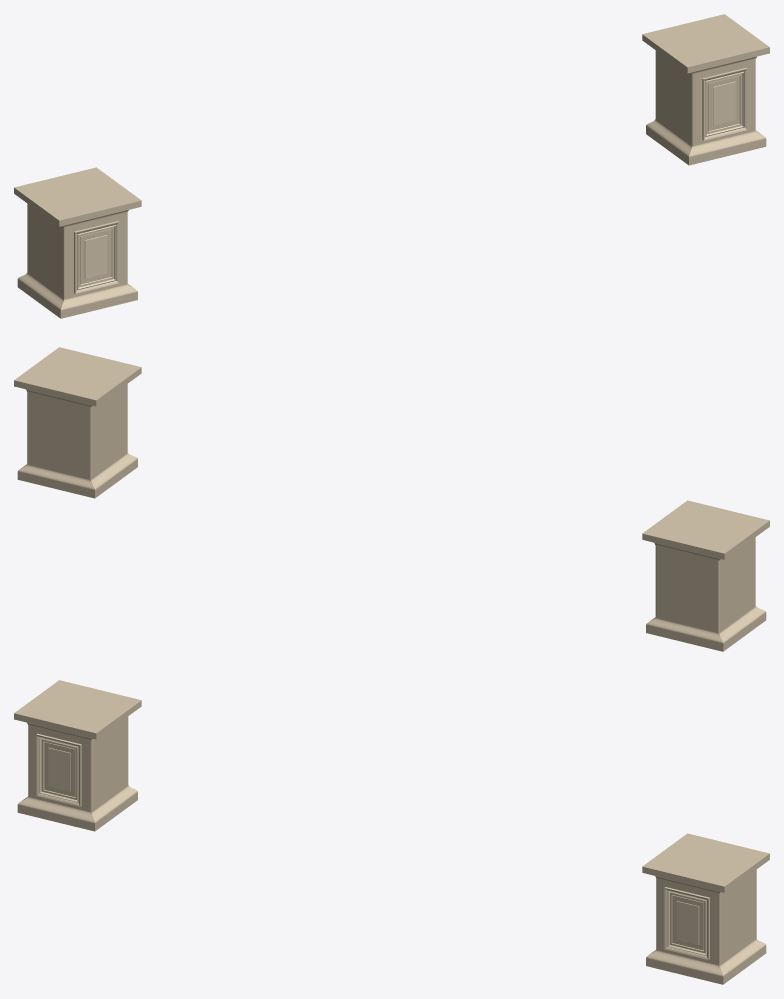
Rendered from altar-pedestals.glb.
The picture shows the model from 3 angles, top to bottom: view 1: azimuth 30°, elevation 25°; view 2: azimuth 150°, elevation 25°; view 3: azimuth 330°, elevation 25°; orthographic projection.
Visible parts, largest first — view 1: PEDESTAL_R_body, PEDESTAL_L_body, PEDESTAL_L_ledge_3, PEDESTAL_R_ledge_3, PEDESTAL_R_ledge_1, PEDESTAL_L_ledge_1, PEDESTAL_L_ledge_0, PEDESTAL_R_ledge_0, PEDESTAL_LEFT_FRONT_RAISED_CENTER_v17_1, PEDESTAL_RIGHT_FRONT_RAISED_CENTER_v17_1, PEDESTAL_R_front_1, PEDESTAL_L_front_1; view 2: PEDESTAL_R_body, PEDESTAL_L_body, PEDESTAL_L_ledge_3, PEDESTAL_R_ledge_3, PEDESTAL_R_ledge_1, PEDESTAL_L_ledge_1, PEDESTAL_L_ledge_0, PEDESTAL_R_ledge_0; view 3: PEDESTAL_L_body, PEDESTAL_R_body, PEDESTAL_R_ledge_3, PEDESTAL_L_ledge_3, PEDESTAL_L_ledge_1, PEDESTAL_R_ledge_1, PEDESTAL_L_ledge_0, PEDESTAL_R_ledge_0, PEDESTAL_RIGHT_FRONT_RAISED_CENTER_v17_1, PEDESTAL_LEFT_FRONT_RAISED_CENTER_v17_1, PEDESTAL_L_front_1, PEDESTAL_R_front_1.
Boxes of the visible parts, x1,y1,x2,y2 form: PEDESTAL_R_body: [655, 50, 755, 146]; PEDESTAL_L_body: [27, 203, 127, 299]; PEDESTAL_L_ledge_3: [14, 167, 141, 226]; PEDESTAL_R_ledge_3: [642, 14, 769, 73]; PEDESTAL_R_ledge_1: [646, 119, 765, 157]; PEDESTAL_L_ledge_1: [18, 272, 137, 310]; PEDESTAL_L_ledge_0: [17, 279, 137, 318]; PEDESTAL_R_ledge_0: [646, 126, 766, 165]; PEDESTAL_LEFT_FRONT_RAISED_CENTER_v17_1: [84, 235, 107, 278]; PEDESTAL_RIGHT_FRONT_RAISED_CENTER_v17_1: [713, 81, 735, 125]; PEDESTAL_R_front_1: [702, 67, 747, 140]; PEDESTAL_L_front_1: [74, 221, 119, 293]; PEDESTAL_R_body: [27, 384, 127, 479]; PEDESTAL_L_body: [655, 537, 755, 632]; PEDESTAL_L_ledge_3: [642, 500, 769, 559]; PEDESTAL_R_ledge_3: [14, 347, 141, 406]; PEDESTAL_R_ledge_1: [18, 453, 137, 490]; PEDESTAL_L_ledge_1: [646, 606, 765, 643]; PEDESTAL_L_ledge_0: [646, 612, 766, 651]; PEDESTAL_R_ledge_0: [17, 459, 137, 498]; PEDESTAL_L_body: [28, 716, 128, 812]; PEDESTAL_R_body: [656, 869, 756, 965]; PEDESTAL_R_ledge_3: [642, 833, 769, 892]; PEDESTAL_L_ledge_3: [14, 680, 141, 739]; PEDESTAL_L_ledge_1: [18, 785, 137, 823]; PEDESTAL_R_ledge_1: [646, 938, 765, 976]; PEDESTAL_L_ledge_0: [17, 792, 137, 831]; PEDESTAL_R_ledge_0: [646, 945, 766, 984]; PEDESTAL_RIGHT_FRONT_RAISED_CENTER_v17_1: [676, 901, 699, 944]; PEDESTAL_LEFT_FRONT_RAISED_CENTER_v17_1: [48, 747, 70, 791]; PEDESTAL_L_front_1: [36, 733, 81, 806]; PEDESTAL_R_front_1: [664, 887, 709, 959].
Bounding box in the file's own units: 6.07 × 0.8131 × 0.6706.
